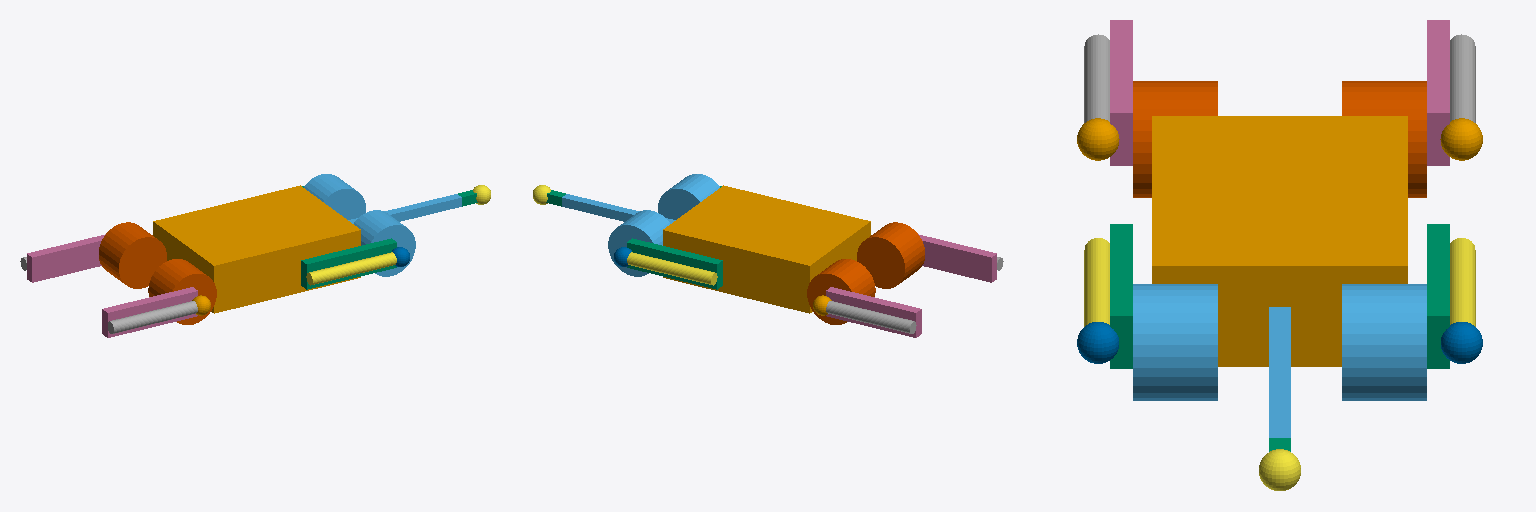
--- Facts derived from the render (not from the file) ---
Views: 3 orthographic renders of the robot side by side, from view 1: azimuth 30°, elevation 25°; view 2: azimuth 150°, elevation 25°; view 3: azimuth 270°, elevation 25°.
Robot: spirit — 20 links, 19 joints (14 revolute, 5 fixed); root link body; default pose: all joints at 0.
Links seen in each view (by area): view 1: body, hip1, upper1, hip3, hip2, upper3, upper2, hip0, lower2, lower3, tail_link_0; view 2: body, hip3, upper3, hip1, hip0, upper1, upper0, hip2, lower0, lower1, tail_link_0; view 3: body, hip0, hip2, hip1, hip3, upper1, upper3, upper0, upper2, tail_link_0, lower0, lower2 (+7 smaller).
Link boxes in pixels (<box>): body: <box>153,185,360,313</box>; hip1: <box>99,222,166,288</box>; upper1: <box>27,234,105,282</box>; hip3: <box>148,259,216,324</box>; hip2: <box>354,210,415,276</box>; upper3: <box>102,287,197,337</box>; upper2: <box>301,238,396,289</box>; hip0: <box>304,174,365,219</box>; lower2: <box>306,252,396,285</box>; lower3: <box>108,301,197,333</box>; tail_link_0: <box>348,194,461,223</box>; body: <box>663,185,870,313</box>; hip3: <box>857,222,924,288</box>; upper3: <box>918,234,996,282</box>; hip1: <box>807,259,875,324</box>; hip0: <box>608,210,669,276</box>; upper1: <box>826,287,921,337</box>; upper0: <box>627,238,722,289</box>; hip2: <box>658,174,719,219</box>; lower0: <box>627,252,717,285</box>; lower1: <box>826,301,916,333</box>; tail_link_0: <box>562,194,675,223</box>; body: <box>1152,116,1407,366</box>; hip0: <box>1342,284,1426,400</box>; hip2: <box>1133,284,1217,400</box>; hip1: <box>1342,81,1426,197</box>; hip3: <box>1133,81,1217,197</box>; upper1: <box>1427,20,1449,165</box>; upper3: <box>1110,20,1132,165</box>; upper0: <box>1427,224,1449,368</box>; upper2: <box>1110,224,1132,368</box>; tail_link_0: <box>1269,307,1290,437</box>; lower0: <box>1450,238,1475,326</box>; lower2: <box>1084,238,1109,326</box>.
Bounding box of the posed robot: 0.9623 × 0.382 × 0.11 m (x, y, z).
Geometry: primitives only (box / cylinder / sphere), no mesh files.

The robot description file, URDF, robot "spirit":
<?xml version="1.0" encoding="utf-8"?>
<!-- =================================================================================== -->
<!-- |    This document was autogenerated by xacro from working_gazebo.urdf.xacro      | -->
<!-- |    EDITING THIS FILE BY HAND IS NOT RECOMMENDED                                 | -->
<!-- =================================================================================== -->
<!-- 
MIT License (modified)

Copyright (c) 2020 Ghost Robotics
Authors:
Avik De <[email redacted]>
Tom Jacobs <[email redacted]>

Permission is hereby granted, free of charge, to any person obtaining a copy
of this **file** (the "Software"), to deal
in the Software without restriction, including without limitation the rights
to use, copy, modify, merge, publish, distribute, sublicense, and/or sell
copies of the Software, and to permit persons to whom the Software is
furnished to do so, subject to the following conditions:

The above copyright notice and this permission notice shall be included in all
copies or substantial portions of the Software.

THE SOFTWARE IS PROVIDED "AS IS", WITHOUT WARRANTY OF ANY KIND, EXPRESS OR
IMPLIED, INCLUDING BUT NOT LIMITED TO THE WARRANTIES OF MERCHANTABILITY,
FITNESS FOR A PARTICULAR PURPOSE AND NONINFRINGEMENT. IN NO EVENT SHALL THE
AUTHORS OR COPYRIGHT HOLDERS BE LIABLE FOR ANY CLAIM, DAMAGES OR OTHER
LIABILITY, WHETHER IN AN ACTION OF CONTRACT, TORT OR OTHERWISE, ARISING FROM,
OUT OF OR IN CONNECTION WITH THE SOFTWARE OR THE USE OR OTHER DEALINGS IN THE
SOFTWARE. 
-->
<robot name="spirit">
  <!-- Body -->
  <link name="body">
    <visual>
      <origin rpy="0 0 0" xyz="0 0 0"/>
      <geometry>
        <box size="0.335 0.24 0.104"/>
      </geometry>
      <material name="darkgray"/>
    </visual>
    <inertial>
      <mass value="5.75"/>
      <!-- Uniform box -->
      <!-- <inertia ixx="1/12*${bodyMass}*(${bodyWidth}*${bodyWidth} + ${bodyHeight}*${bodyHeight})"  ixy="0"  ixz="0" iyy="1/12*${bodyMass}*(${bodyLength}*${bodyLength} + ${bodyHeight}*${bodyHeight})" iyz="0" izz="1/12*${bodyMass}*(${bodyLength}*${bodyLength} + ${bodyWidth}*${bodyWidth})"/> -->
      <inertia ixx="0.05" ixy="0" ixz="0" iyy="0.1" iyz="0" izz="0.1"/>
    </inertial>
    <!-- Just copy geometry for collision -->
    <collision>
      <origin rpy="0 0 0" xyz="0 0 0"/>
      <geometry>
        <box size="0.335 0.24 0.104"/>
      </geometry>
    </collision>
  </link>
  <gazebo reference="body">
    <material>Gazebo/Black</material>
  </gazebo>
  <!-- Hip motor -->
  <link name="hip0">
    <visual>
      <origin rpy="1.5707963268 0 0" xyz="0 0.028 0"/>
      <geometry>
        <cylinder length="0.08" radius="0.055"/>
      </geometry>
    </visual>
    <collision>
      <origin rpy="1.5707963268 0 0" xyz="0 0.028 0"/>
      <geometry>
        <cylinder length="0.08" radius="0.055"/>
      </geometry>
    </collision>
    <inertial>
      <origin rpy="1.5707963268 0 0" xyz="0 0.028 0"/>
      <mass value="0.575"/>
      <!-- <inertia ixx="1/12*${podMass}*${podLength}*${podLength} + 1/4*${podMass}*${podRadius}*${podRadius}"  ixy="0"  ixz="0" iyy="1/12*${podMass}*${podLength}*${podLength} + 1/4*${podMass}*${podRadius}*${podRadius}" iyz="0" izz="1/2*${podMass}*${podRadius}*$
				{podRadius}" /> -->
      <inertia ixx="0.00066963541" ixy="0" ixz="0" iyy="0.00066963541" iyz="0" izz="0.0008696875"/>
    </inertial>
  </link>
  <gazebo reference="hip0">
    <material>Gazebo/Grey</material>
  </gazebo>
  <!-- Abduction joint. Joint names are: 8 9 10 11 -->
  <joint name="8" type="revolute">
    <parent link="body"/>
    <child link="hip0"/>
    <axis xyz="1 0 0"/>
    <origin xyz="0.2263 0.07 0"/>
    <limit effort="40" lower="-0.707" upper="0.707" velocity="30"/>
    <dynamics damping="0.0" friction="0.0"/>
  </joint>
  <!-- Transmission elements required for Gazebo -->
  <transmission name="transmission_8">
    <type>transmission_interface/SimpleTransmission</type>
    <joint name="8">
      <hardwareInterface>hardware_interface/EffortJointInterface</hardwareInterface>
    </joint>
    <actuator name="motor_8">
      <hardwareInterface>EffortJointInterface</hardwareInterface>
      <mechanicalReduction>1</mechanicalReduction>
    </actuator>
  </transmission>
  <!-- Upper leg -->
  <link name="upper0">
    <visual>
      <origin rpy="0 0 0" xyz="-0.103 -0.022 0"/>
      <geometry>
        <box size="0.206 0.022 0.055"/>
      </geometry>
      <material name="silver"/>
    </visual>
    <collision>
      <origin rpy="0 0 0" xyz="-0.103 -0.022 0"/>
      <geometry>
        <box size="0.206 0.022 0.055"/>
      </geometry>
    </collision>
    <inertial>
      <mass value="0.775"/>
      <inertia ixx="5e-05" ixy="0" ixz="0" iyy="0.001" iyz="0" izz="0.001"/>
    </inertial>
  </link>
  <gazebo reference="upper0">
    <material>Gazebo/DarkGrey</material>
  </gazebo>
  <!-- Hip joint. (Motor to upper leg). Joint names are: 0 2 4 6 -->
  <joint name="0" type="revolute">
    <parent link="hip0"/>
    <child link="upper0"/>
    <axis xyz="0 -1 0"/>
    <origin xyz="0 0.10098 0"/>
    <!--  rpy="0 -0.3 0" -->
    <limit effort="40" lower="-6.28318530718" upper="6.28318530718" velocity="30"/>
    <dynamics damping="0.0" friction="0.0"/>
  </joint>
  <!-- Transmission elements required for Gazebo -->
  <transmission name="transmission_0">
    <type>transmission_interface/SimpleTransmission</type>
    <joint name="0">
      <hardwareInterface>hardware_interface/EffortJointInterface</hardwareInterface>
    </joint>
    <actuator name="motor_0">
      <hardwareInterface>EffortJointInterface</hardwareInterface>
      <mechanicalReduction>1</mechanicalReduction>
    </actuator>
  </transmission>
  <!-- Lower leg -->
  <link name="lower0">
    <visual>
      <origin rpy="0 1.5707963268 0" xyz="0.103 0 0"/>
      <geometry>
        <cylinder length="0.206" radius="0.013"/>
      </geometry>
      <material name="darkgray"/>
    </visual>
    <collision>
      <origin rpy="0 1.5707963268 0" xyz="0.103 0 0"/>
      <geometry>
        <cylinder length="0.206" radius="0.013"/>
      </geometry>
    </collision>
    <inertial>
      <mass value="0.075"/>
      <inertia ixx="5e-06" ixy="0" ixz="0" iyy="0.0001" iyz="0" izz="0.0001"/>
    </inertial>
  </link>
  <gazebo reference="lower0">
    <material>Gazebo/Grey</material>
  </gazebo>
  <!-- Knee joint. Joint names are: 1 3 5 7 -->
  <joint name="1" type="revolute">
    <parent link="upper0"/>
    <child link="lower0"/>
    <axis xyz="0 1 0"/>
    <origin xyz="-0.206 0 0"/>
    <!--rpy="0 0.5 0"-->
    <limit effort="40" lower="0" upper="3.14159265359" velocity="30"/>
    <dynamics damping="0.0" friction="0.0"/>
  </joint>
  <!-- Transmission elements required for Gazebo -->
  <transmission name="transmission_1">
    <type>transmission_interface/SimpleTransmission</type>
    <joint name="1">
      <hardwareInterface>hardware_interface/EffortJointInterface</hardwareInterface>
    </joint>
    <actuator name="motor_1">
      <hardwareInterface>EffortJointInterface</hardwareInterface>
      <mechanicalReduction>1</mechanicalReduction>
    </actuator>
  </transmission>
  <!-- Toe -->
  <link name="toe0">
    <contact>
      <friction_anchor/>
      <stiffness value="30000.0"/>
      <damping value="1000.0"/>
      <spinning_friction value="0.3"/>
      <lateral_friction value="50.0"/>
    </contact>
    <visual>
      <origin rpy="0 0 0" xyz="0 0 0"/>
      <geometry>
        <sphere radius="0.02"/>
      </geometry>
      <material name="darkgray"/>
    </visual>
    <collision>
      <origin rpy="0 0 0" xyz="0 0 0"/>
      <geometry>
        <sphere radius="0.02"/>
      </geometry>
    </collision>
    <inertial>
      <mass value="0.015"/>
      <inertia ixx="0.000025" ixy="0" ixz="0" iyy="0.000025" iyz="0" izz="0.000025"/>
      <!-- <inertia ixx="2/5*${toeMass}*${toeRadius}*${toeRadius}"  ixy="0"  ixz="0" iyy="2/5*${toeMass}*${toeRadius}*${toeRadius}" iyz="0" izz="2/5*${toeMass}*${toeRadius}*${toeRadius}" /> -->
    </inertial>
  </link>
  <gazebo reference="toe0">
    <material>Gazebo/Black</material>
    <collision>
      <surface>
        <bounce>
          <restitution_coefficient>0</restitution_coefficient>
          <threshold>1e+06</threshold>
        </bounce>
        <friction>
          <torsional>
            <coefficient>0.3</coefficient>
          </torsional>
          <ode>
            <mu>100.0</mu>
            <mu2>50.0</mu2>
          </ode>
          <bullet>
            <rolling_friction>0.3</rolling_friction>
            <friction2>50.0</friction2>
          </bullet>
        </friction>
        <contact>
          <bullet>
            <kp>30000.0</kp>
            <kd>1000.0</kd>
          </bullet>
          <ode>
            <kp>30000.0</kp>
            <kd>1000.0</kd>
          </ode>
        </contact>
      </surface>
    </collision>
  </gazebo>
  <joint name="jtoe0" type="fixed">
    <parent link="lower0"/>
    <child link="toe0"/>
    <origin xyz="0.206 0 -0.0"/>
    <dynamics damping="0.0" friction="0.0"/>
  </joint>
  <!-- Hip motor -->
  <link name="hip1">
    <visual>
      <origin rpy="1.5707963268 0 0" xyz="0 0.028 0"/>
      <geometry>
        <cylinder length="0.08" radius="0.055"/>
      </geometry>
    </visual>
    <collision>
      <origin rpy="1.5707963268 0 0" xyz="0 0.028 0"/>
      <geometry>
        <cylinder length="0.08" radius="0.055"/>
      </geometry>
    </collision>
    <inertial>
      <origin rpy="1.5707963268 0 0" xyz="0 0.028 0"/>
      <mass value="0.575"/>
      <!-- <inertia ixx="1/12*${podMass}*${podLength}*${podLength} + 1/4*${podMass}*${podRadius}*${podRadius}"  ixy="0"  ixz="0" iyy="1/12*${podMass}*${podLength}*${podLength} + 1/4*${podMass}*${podRadius}*${podRadius}" iyz="0" izz="1/2*${podMass}*${podRadius}*$
				{podRadius}" /> -->
      <inertia ixx="0.00066963541" ixy="0" ixz="0" iyy="0.00066963541" iyz="0" izz="0.0008696875"/>
    </inertial>
  </link>
  <gazebo reference="hip1">
    <material>Gazebo/Grey</material>
  </gazebo>
  <!-- Abduction joint. Joint names are: 8 9 10 11 -->
  <joint name="9" type="revolute">
    <parent link="body"/>
    <child link="hip1"/>
    <axis xyz="1 0 0"/>
    <origin xyz="-0.2263 0.07 0"/>
    <limit effort="40" lower="-0.707" upper="0.707" velocity="30"/>
    <dynamics damping="0.0" friction="0.0"/>
  </joint>
  <!-- Transmission elements required for Gazebo -->
  <transmission name="transmission_9">
    <type>transmission_interface/SimpleTransmission</type>
    <joint name="9">
      <hardwareInterface>hardware_interface/EffortJointInterface</hardwareInterface>
    </joint>
    <actuator name="motor_9">
      <hardwareInterface>EffortJointInterface</hardwareInterface>
      <mechanicalReduction>1</mechanicalReduction>
    </actuator>
  </transmission>
  <!-- Upper leg -->
  <link name="upper1">
    <visual>
      <origin rpy="0 0 0" xyz="-0.103 -0.022 0"/>
      <geometry>
        <box size="0.206 0.022 0.055"/>
      </geometry>
      <material name="silver"/>
    </visual>
    <collision>
      <origin rpy="0 0 0" xyz="-0.103 -0.022 0"/>
      <geometry>
        <box size="0.206 0.022 0.055"/>
      </geometry>
    </collision>
    <inertial>
      <mass value="0.775"/>
      <inertia ixx="5e-05" ixy="0" ixz="0" iyy="0.001" iyz="0" izz="0.001"/>
    </inertial>
  </link>
  <gazebo reference="upper1">
    <material>Gazebo/DarkGrey</material>
  </gazebo>
  <!-- Hip joint. (Motor to upper leg). Joint names are: 0 2 4 6 -->
  <joint name="2" type="revolute">
    <parent link="hip1"/>
    <child link="upper1"/>
    <axis xyz="0 -1 0"/>
    <origin xyz="0 0.10098 0"/>
    <!--  rpy="0 -0.3 0" -->
    <limit effort="40" lower="-6.28318530718" upper="6.28318530718" velocity="30"/>
    <dynamics damping="0.0" friction="0.0"/>
  </joint>
  <!-- Transmission elements required for Gazebo -->
  <transmission name="transmission_2">
    <type>transmission_interface/SimpleTransmission</type>
    <joint name="2">
      <hardwareInterface>hardware_interface/EffortJointInterface</hardwareInterface>
    </joint>
    <actuator name="motor_2">
      <hardwareInterface>EffortJointInterface</hardwareInterface>
      <mechanicalReduction>1</mechanicalReduction>
    </actuator>
  </transmission>
  <!-- Lower leg -->
  <link name="lower1">
    <visual>
      <origin rpy="0 1.5707963268 0" xyz="0.103 0 0"/>
      <geometry>
        <cylinder length="0.206" radius="0.013"/>
      </geometry>
      <material name="darkgray"/>
    </visual>
    <collision>
      <origin rpy="0 1.5707963268 0" xyz="0.103 0 0"/>
      <geometry>
        <cylinder length="0.206" radius="0.013"/>
      </geometry>
    </collision>
    <inertial>
      <mass value="0.075"/>
      <inertia ixx="5e-06" ixy="0" ixz="0" iyy="0.0001" iyz="0" izz="0.0001"/>
    </inertial>
  </link>
  <gazebo reference="lower1">
    <material>Gazebo/Grey</material>
  </gazebo>
  <!-- Knee joint. Joint names are: 1 3 5 7 -->
  <joint name="3" type="revolute">
    <parent link="upper1"/>
    <child link="lower1"/>
    <axis xyz="0 1 0"/>
    <origin xyz="-0.206 0 0"/>
    <!--rpy="0 0.5 0"-->
    <limit effort="40" lower="0" upper="3.14159265359" velocity="30"/>
    <dynamics damping="0.0" friction="0.0"/>
  </joint>
  <!-- Transmission elements required for Gazebo -->
  <transmission name="transmission_3">
    <type>transmission_interface/SimpleTransmission</type>
    <joint name="3">
      <hardwareInterface>hardware_interface/EffortJointInterface</hardwareInterface>
    </joint>
    <actuator name="motor_3">
      <hardwareInterface>EffortJointInterface</hardwareInterface>
      <mechanicalReduction>1</mechanicalReduction>
    </actuator>
  </transmission>
  <!-- Toe -->
  <link name="toe1">
    <contact>
      <friction_anchor/>
      <stiffness value="30000.0"/>
      <damping value="1000.0"/>
      <spinning_friction value="0.3"/>
      <lateral_friction value="50.0"/>
    </contact>
    <visual>
      <origin rpy="0 0 0" xyz="0 0 0"/>
      <geometry>
        <sphere radius="0.02"/>
      </geometry>
      <material name="darkgray"/>
    </visual>
    <collision>
      <origin rpy="0 0 0" xyz="0 0 0"/>
      <geometry>
        <sphere radius="0.02"/>
      </geometry>
    </collision>
    <inertial>
      <mass value="0.015"/>
      <inertia ixx="0.000025" ixy="0" ixz="0" iyy="0.000025" iyz="0" izz="0.000025"/>
      <!-- <inertia ixx="2/5*${toeMass}*${toeRadius}*${toeRadius}"  ixy="0"  ixz="0" iyy="2/5*${toeMass}*${toeRadius}*${toeRadius}" iyz="0" izz="2/5*${toeMass}*${toeRadius}*${toeRadius}" /> -->
    </inertial>
  </link>
  <gazebo reference="toe1">
    <material>Gazebo/Black</material>
    <collision>
      <surface>
        <bounce>
          <restitution_coefficient>0</restitution_coefficient>
          <threshold>1e+06</threshold>
        </bounce>
        <friction>
          <torsional>
            <coefficient>0.3</coefficient>
          </torsional>
          <ode>
            <mu>100.0</mu>
            <mu2>50.0</mu2>
          </ode>
          <bullet>
            <rolling_friction>0.3</rolling_friction>
            <friction2>50.0</friction2>
          </bullet>
        </friction>
        <contact>
          <bullet>
            <kp>30000.0</kp>
            <kd>1000.0</kd>
          </bullet>
          <ode>
            <kp>30000.0</kp>
            <kd>1000.0</kd>
          </ode>
        </contact>
      </surface>
    </collision>
  </gazebo>
  <joint name="jtoe1" type="fixed">
    <parent link="lower1"/>
    <child link="toe1"/>
    <origin xyz="0.206 0 -0.0"/>
    <dynamics damping="0.0" friction="0.0"/>
  </joint>
  <!-- Hip motor -->
  <link name="hip2">
    <visual>
      <origin rpy="1.5707963268 0 0" xyz="0 -0.028 0"/>
      <geometry>
        <cylinder length="0.08" radius="0.055"/>
      </geometry>
    </visual>
    <collision>
      <origin rpy="1.5707963268 0 0" xyz="0 -0.028 0"/>
      <geometry>
        <cylinder length="0.08" radius="0.055"/>
      </geometry>
    </collision>
    <inertial>
      <origin rpy="1.5707963268 0 0" xyz="0 -0.028 0"/>
      <mass value="0.575"/>
      <!-- <inertia ixx="1/12*${podMass}*${podLength}*${podLength} + 1/4*${podMass}*${podRadius}*${podRadius}"  ixy="0"  ixz="0" iyy="1/12*${podMass}*${podLength}*${podLength} + 1/4*${podMass}*${podRadius}*${podRadius}" iyz="0" izz="1/2*${podMass}*${podRadius}*$
				{podRadius}" /> -->
      <inertia ixx="0.00066963541" ixy="0" ixz="0" iyy="0.00066963541" iyz="0" izz="0.0008696875"/>
    </inertial>
  </link>
  <gazebo reference="hip2">
    <material>Gazebo/Grey</material>
  </gazebo>
  <!-- Abduction joint. Joint names are: 8 9 10 11 -->
  <joint name="10" type="revolute">
    <parent link="body"/>
    <child link="hip2"/>
    <axis xyz="1 0 0"/>
    <origin xyz="0.2263 -0.07 0"/>
    <limit effort="40" lower="-0.707" upper="0.707" velocity="30"/>
    <dynamics damping="0.0" friction="0.0"/>
  </joint>
  <!-- Transmission elements required for Gazebo -->
  <transmission name="transmission_10">
    <type>transmission_interface/SimpleTransmission</type>
    <joint name="10">
      <hardwareInterface>hardware_interface/EffortJointInterface</hardwareInterface>
    </joint>
    <actuator name="motor_10">
      <hardwareInterface>EffortJointInterface</hardwareInterface>
      <mechanicalReduction>1</mechanicalReduction>
    </actuator>
  </transmission>
  <!-- Upper leg -->
  <link name="upper2">
    <visual>
      <origin rpy="0 0 0" xyz="-0.103 0.022 0"/>
      <geometry>
        <box size="0.206 0.022 0.055"/>
      </geometry>
      <material name="silver"/>
    </visual>
    <collision>
      <origin rpy="0 0 0" xyz="-0.103 0.022 0"/>
      <geometry>
        <box size="0.206 0.022 0.055"/>
      </geometry>
    </collision>
    <inertial>
      <mass value="0.775"/>
      <inertia ixx="5e-05" ixy="0" ixz="0" iyy="0.001" iyz="0" izz="0.001"/>
    </inertial>
  </link>
  <gazebo reference="upper2">
    <material>Gazebo/DarkGrey</material>
  </gazebo>
  <!-- Hip joint. (Motor to upper leg). Joint names are: 0 2 4 6 -->
  <joint name="4" type="revolute">
    <parent link="hip2"/>
    <child link="upper2"/>
    <axis xyz="0 -1 0"/>
    <origin xyz="0 -0.10098 0"/>
    <!--  rpy="0 -0.3 0" -->
    <limit effort="40" lower="-6.28318530718" upper="6.28318530718" velocity="30"/>
    <dynamics damping="0.0" friction="0.0"/>
  </joint>
  <!-- Transmission elements required for Gazebo -->
  <transmission name="transmission_4">
    <type>transmission_interface/SimpleTransmission</type>
    <joint name="4">
      <hardwareInterface>hardware_interface/EffortJointInterface</hardwareInterface>
    </joint>
    <actuator name="motor_4">
      <hardwareInterface>EffortJointInterface</hardwareInterface>
      <mechanicalReduction>1</mechanicalReduction>
    </actuator>
  </transmission>
  <!-- Lower leg -->
  <link name="lower2">
    <visual>
      <origin rpy="0 1.5707963268 0" xyz="0.103 0 0"/>
      <geometry>
        <cylinder length="0.206" radius="0.013"/>
      </geometry>
      <material name="darkgray"/>
    </visual>
    <collision>
      <origin rpy="0 1.5707963268 0" xyz="0.103 0 0"/>
      <geometry>
        <cylinder length="0.206" radius="0.013"/>
      </geometry>
    </collision>
    <inertial>
      <mass value="0.075"/>
      <inertia ixx="5e-06" ixy="0" ixz="0" iyy="0.0001" iyz="0" izz="0.0001"/>
    </inertial>
  </link>
  <gazebo reference="lower2">
    <material>Gazebo/Grey</material>
  </gazebo>
  <!-- Knee joint. Joint names are: 1 3 5 7 -->
  <joint name="5" type="revolute">
    <parent link="upper2"/>
    <child link="lower2"/>
    <axis xyz="0 1 0"/>
    <origin xyz="-0.206 0 0"/>
    <!--rpy="0 0.5 0"-->
    <limit effort="40" lower="0" upper="3.14159265359" velocity="30"/>
    <dynamics damping="0.0" friction="0.0"/>
  </joint>
  <!-- Transmission elements required for Gazebo -->
  <transmission name="transmission_5">
    <type>transmission_interface/SimpleTransmission</type>
    <joint name="5">
      <hardwareInterface>hardware_interface/EffortJointInterface</hardwareInterface>
    </joint>
    <actuator name="motor_5">
      <hardwareInterface>EffortJointInterface</hardwareInterface>
      <mechanicalReduction>1</mechanicalReduction>
    </actuator>
  </transmission>
  <!-- Toe -->
  <link name="toe2">
    <contact>
      <friction_anchor/>
      <stiffness value="30000.0"/>
      <damping value="1000.0"/>
      <spinning_friction value="0.3"/>
      <lateral_friction value="50.0"/>
    </contact>
    <visual>
      <origin rpy="0 0 0" xyz="0 0 0"/>
      <geometry>
        <sphere radius="0.02"/>
      </geometry>
      <material name="darkgray"/>
    </visual>
    <collision>
      <origin rpy="0 0 0" xyz="0 0 0"/>
      <geometry>
        <sphere radius="0.02"/>
      </geometry>
    </collision>
    <inertial>
      <mass value="0.015"/>
      <inertia ixx="0.000025" ixy="0" ixz="0" iyy="0.000025" iyz="0" izz="0.000025"/>
      <!-- <inertia ixx="2/5*${toeMass}*${toeRadius}*${toeRadius}"  ixy="0"  ixz="0" iyy="2/5*${toeMass}*${toeRadius}*${toeRadius}" iyz="0" izz="2/5*${toeMass}*${toeRadius}*${toeRadius}" /> -->
    </inertial>
  </link>
  <gazebo reference="toe2">
    <material>Gazebo/Black</material>
    <collision>
      <surface>
        <bounce>
          <restitution_coefficient>0</restitution_coefficient>
          <threshold>1e+06</threshold>
        </bounce>
        <friction>
          <torsional>
            <coefficient>0.3</coefficient>
          </torsional>
          <ode>
            <mu>100.0</mu>
            <mu2>50.0</mu2>
          </ode>
          <bullet>
            <rolling_friction>0.3</rolling_friction>
            <friction2>50.0</friction2>
          </bullet>
        </friction>
        <contact>
          <bullet>
            <kp>30000.0</kp>
            <kd>1000.0</kd>
          </bullet>
          <ode>
            <kp>30000.0</kp>
            <kd>1000.0</kd>
          </ode>
        </contact>
      </surface>
    </collision>
  </gazebo>
  <joint name="jtoe2" type="fixed">
    <parent link="lower2"/>
    <child link="toe2"/>
    <origin xyz="0.206 0 -0.0"/>
    <dynamics damping="0.0" friction="0.0"/>
  </joint>
  <!-- Hip motor -->
  <link name="hip3">
    <visual>
      <origin rpy="1.5707963268 0 0" xyz="0 -0.028 0"/>
      <geometry>
        <cylinder length="0.08" radius="0.055"/>
      </geometry>
    </visual>
    <collision>
      <origin rpy="1.5707963268 0 0" xyz="0 -0.028 0"/>
      <geometry>
        <cylinder length="0.08" radius="0.055"/>
      </geometry>
    </collision>
    <inertial>
      <origin rpy="1.5707963268 0 0" xyz="0 -0.028 0"/>
      <mass value="0.575"/>
      <!-- <inertia ixx="1/12*${podMass}*${podLength}*${podLength} + 1/4*${podMass}*${podRadius}*${podRadius}"  ixy="0"  ixz="0" iyy="1/12*${podMass}*${podLength}*${podLength} + 1/4*${podMass}*${podRadius}*${podRadius}" iyz="0" izz="1/2*${podMass}*${podRadius}*$
				{podRadius}" /> -->
      <inertia ixx="0.00066963541" ixy="0" ixz="0" iyy="0.00066963541" iyz="0" izz="0.0008696875"/>
    </inertial>
  </link>
  <gazebo reference="hip3">
    <material>Gazebo/Grey</material>
  </gazebo>
  <!-- Abduction joint. Joint names are: 8 9 10 11 -->
  <joint name="11" type="revolute">
    <parent link="body"/>
    <child link="hip3"/>
    <axis xyz="1 0 0"/>
    <origin xyz="-0.2263 -0.07 0"/>
    <limit effort="40" lower="-0.707" upper="0.707" velocity="30"/>
    <dynamics damping="0.0" friction="0.0"/>
  </joint>
  <!-- Transmission elements required for Gazebo -->
  <transmission name="transmission_11">
    <type>transmission_interface/SimpleTransmission</type>
    <joint name="11">
      <hardwareInterface>hardware_interface/EffortJointInterface</hardwareInterface>
    </joint>
    <actuator name="motor_11">
      <hardwareInterface>EffortJointInterface</hardwareInterface>
      <mechanicalReduction>1</mechanicalReduction>
    </actuator>
  </transmission>
  <!-- Upper leg -->
  <link name="upper3">
    <visual>
      <origin rpy="0 0 0" xyz="-0.103 0.022 0"/>
      <geometry>
        <box size="0.206 0.022 0.055"/>
      </geometry>
      <material name="silver"/>
    </visual>
    <collision>
      <origin rpy="0 0 0" xyz="-0.103 0.022 0"/>
      <geometry>
        <box size="0.206 0.022 0.055"/>
      </geometry>
    </collision>
    <inertial>
      <mass value="0.775"/>
      <inertia ixx="5e-05" ixy="0" ixz="0" iyy="0.001" iyz="0" izz="0.001"/>
    </inertial>
  </link>
  <gazebo reference="upper3">
    <material>Gazebo/DarkGrey</material>
  </gazebo>
  <!-- Hip joint. (Motor to upper leg). Joint names are: 0 2 4 6 -->
  <joint name="6" type="revolute">
    <parent link="hip3"/>
    <child link="upper3"/>
    <axis xyz="0 -1 0"/>
    <origin xyz="0 -0.10098 0"/>
    <!--  rpy="0 -0.3 0" -->
    <limit effort="40" lower="-6.28318530718" upper="6.28318530718" velocity="30"/>
    <dynamics damping="0.0" friction="0.0"/>
  </joint>
  <!-- Transmission elements required for Gazebo -->
  <transmission name="transmission_6">
    <type>transmission_interface/SimpleTransmission</type>
    <joint name="6">
      <hardwareInterface>hardware_interface/EffortJointInterface</hardwareInterface>
    </joint>
    <actuator name="motor_6">
      <hardwareInterface>EffortJointInterface</hardwareInterface>
      <mechanicalReduction>1</mechanicalReduction>
    </actuator>
  </transmission>
  <!-- Lower leg -->
  <link name="lower3">
    <visual>
      <origin rpy="0 1.5707963268 0" xyz="0.103 0 0"/>
      <geometry>
        <cylinder length="0.206" radius="0.013"/>
      </geometry>
      <material name="darkgray"/>
    </visual>
    <collision>
      <origin rpy="0 1.5707963268 0" xyz="0.103 0 0"/>
      <geometry>
        <cylinder length="0.206" radius="0.013"/>
      </geometry>
    </collision>
    <inertial>
      <mass value="0.075"/>
      <inertia ixx="5e-06" ixy="0" ixz="0" iyy="0.0001" iyz="0" izz="0.0001"/>
    </inertial>
  </link>
  <gazebo reference="lower3">
    <material>Gazebo/Grey</material>
  </gazebo>
  <!-- Knee joint. Joint names are: 1 3 5 7 -->
  <joint name="7" type="revolute">
    <parent link="upper3"/>
    <child link="lower3"/>
    <axis xyz="0 1 0"/>
    <origin xyz="-0.206 0 0"/>
    <!--rpy="0 0.5 0"-->
    <limit effort="40" lower="0" upper="3.14159265359" velocity="30"/>
    <dynamics damping="0.0" friction="0.0"/>
  </joint>
  <!-- Transmission elements required for Gazebo -->
  <transmission name="transmission_7">
    <type>transmission_interface/SimpleTransmission</type>
    <joint name="7">
      <hardwareInterface>hardware_interface/EffortJointInterface</hardwareInterface>
    </joint>
    <actuator name="motor_7">
      <hardwareInterface>EffortJointInterface</hardwareInterface>
      <mechanicalReduction>1</mechanicalReduction>
    </actuator>
  </transmission>
  <!-- Toe -->
  <link name="toe3">
    <contact>
      <friction_anchor/>
      <stiffness value="30000.0"/>
      <damping value="1000.0"/>
      <spinning_friction value="0.3"/>
      <lateral_friction value="50.0"/>
    </contact>
    <visual>
      <origin rpy="0 0 0" xyz="0 0 0"/>
      <geometry>
        <sphere radius="0.02"/>
      </geometry>
      <material name="darkgray"/>
    </visual>
    <collision>
      <origin rpy="0 0 0" xyz="0 0 0"/>
      <geometry>
        <sphere radius="0.02"/>
      </geometry>
    </collision>
    <inertial>
      <mass value="0.015"/>
      <inertia ixx="0.000025" ixy="0" ixz="0" iyy="0.000025" iyz="0" izz="0.000025"/>
      <!-- <inertia ixx="2/5*${toeMass}*${toeRadius}*${toeRadius}"  ixy="0"  ixz="0" iyy="2/5*${toeMass}*${toeRadius}*${toeRadius}" iyz="0" izz="2/5*${toeMass}*${toeRadius}*${toeRadius}" /> -->
    </inertial>
  </link>
  <gazebo reference="toe3">
    <material>Gazebo/Black</material>
    <collision>
      <surface>
        <bounce>
          <restitution_coefficient>0</restitution_coefficient>
          <threshold>1e+06</threshold>
        </bounce>
        <friction>
          <torsional>
            <coefficient>0.3</coefficient>
          </torsional>
          <ode>
            <mu>100.0</mu>
            <mu2>50.0</mu2>
          </ode>
          <bullet>
            <rolling_friction>0.3</rolling_friction>
            <friction2>50.0</friction2>
          </bullet>
        </friction>
        <contact>
          <bullet>
            <kp>30000.0</kp>
            <kd>1000.0</kd>
          </bullet>
          <ode>
            <kp>30000.0</kp>
            <kd>1000.0</kd>
          </ode>
        </contact>
      </surface>
    </collision>
  </gazebo>
  <joint name="jtoe3" type="fixed">
    <parent link="lower3"/>
    <child link="toe3"/>
    <origin xyz="0.206 0 -0.0"/>
    <dynamics damping="0.0" friction="0.0"/>
  </joint>
  <!--    CUSTOMIZED SECTIONS BELOW. NOT FROM GHOST ROBOTICS.    -->
  <!-- Neck or tail-->
  <link name="tail_link_0">
    <visual>
      <origin rpy="0 0 0" xyz="0.15 0 0"/>
      <geometry>
        <box size="0.3 0.02 0.02"/>
      </geometry>
      <material name="darkgray"/>
    </visual>
    <inertial>
      <origin rpy="0 0 0" xyz="0.15 0 0"/>
      <mass value="0.12"/>
      <inertia ixx="0.001" ixy="0" ixz="0" iyy="0.001" iyz="0" izz="0.001"/>
    </inertial>
    <!-- Just copy geometry for collision -->
    <!-- <collision>
		<origin rpy="0 0 0" xyz="${neckLength1/2} 0 0"/>
			<geometry>
				<box size="${neckLength1} ${neckWidth} ${neckHeight}"/>
			</geometry>
		</collision> -->
  </link>
  <gazebo reference="tail_link_0">
    <material>Gazebo/Gray</material>
  </gazebo>
  <link name="tail_link_1">
    <visual>
      <origin rpy="0 0 0" xyz="0.025 0 0"/>
      <geometry>
        <box size="0.05 0.02 0.02"/>
      </geometry>
      <material name="darkgray"/>
    </visual>
    <inertial>
      <origin rpy="0 0 0" xyz="0.025 0 0"/>
      <mass value="0.0002"/>
      <inertia ixx="0.0001" ixy="0" ixz="0" iyy="0.0001" iyz="0" izz="0.0001"/>
    </inertial>
    <!-- Just copy geometry for collision -->
    <!-- <collision>
		<origin rpy="0 0 0" xyz="${neckLength2/2} 0 0"/>
			<geometry>
				<box size="${neckLength2} ${neckWidth} ${neckHeight}"/>
			</geometry>
		</collision> -->
  </link>
  <gazebo reference="tail_link_1">
    <material>Gazebo/Gray</material>
  </gazebo>
  <link name="tail_mass">
    <visual>
      <origin rpy="0 0 0" xyz="0 0 0"/>
      <geometry>
        <sphere radius="0.02"/>
      </geometry>
      <material name="gray"/>
    </visual>
    <inertial>
      <mass value="0.3"/>
      <inertia ixx="0.001" ixy="0" ixz="0" iyy="0" iyz="0" izz="0"/>
    </inertial>
    <collision>
      <origin rpy="0 0 0" xyz="0 0 0"/>
      <geometry>
        <sphere radius="0.02"/>
      </geometry>
    </collision>
  </link>
  <gazebo reference="tail_mass">
    <material>Gazebo/Gray</material>
  </gazebo>
  <joint name="body_tail_joint_0" type="revolute">
    <parent link="body"/>
    <child link="tail_link_0"/>
    <axis xyz="0 1 0"/>
    <origin xyz="0.16 0 0"/>
    <limit effort="35" lower="-1.57" upper="1.57" velocity="1000000"/>
    <dynamics damping="0.0" friction="0.0"/>
  </joint>
  <!-- Transmission elements required for Gazebo -->
  <transmission name="transmission_body_tail_joint_0">
    <type>transmission_interface/SimpleTransmission</type>
    <joint name="body_tail_joint_0">
      <hardwareInterface>hardware_interface/EffortJointInterface</hardwareInterface>
    </joint>
    <actuator name="motor_body_tail_joint_0">
      <hardwareInterface>EffortJointInterface</hardwareInterface>
      <mechanicalReduction>1</mechanicalReduction>
    </actuator>
  </transmission>
  <joint name="body_tail_joint_1" type="revolute">
    <parent link="tail_link_0"/>
    <child link="tail_link_1"/>
    <axis xyz="0 1 0"/>
    <origin xyz="0.3 0 0"/>
    <limit effort="35" lower="-1.57" upper="1.57" velocity="1000000"/>
    <dynamics damping="0.0" friction="0.0"/>
  </joint>
  <!-- Transmission elements required for Gazebo -->
  <transmission name="transmission_body_tail_joint_1">
    <type>transmission_interface/SimpleTransmission</type>
    <joint name="body_tail_joint_1">
      <hardwareInterface>hardware_interface/EffortJointInterface</hardwareInterface>
    </joint>
    <actuator name="motor_body_tail_joint_1">
      <hardwareInterface>EffortJointInterface</hardwareInterface>
      <mechanicalReduction>1</mechanicalReduction>
    </actuator>
  </transmission>
  <joint name="tail_link_mass_joint" type="fixed">
    <parent link="tail_link_1"/>
    <child link="tail_mass"/>
    <origin xyz="0.05 0 0"/>
    <dynamics damping="0.0" friction="0.0"/>
  </joint>
  <!--    CUSTOMIZED SECTIONS	ABOVE. NOT FROM GHOST ROBOTICS.    -->
  <!-- Add ros_control plugin -->
  <gazebo>
    <plugin filename="libgazebo_ros_control.so" name="gazebo_ros_control">
      <robotNamespace>/spirit</robotNamespace>
    </plugin>
  </gazebo>
</robot>
